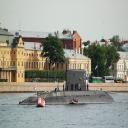submarine: (21, 65, 122, 106)
